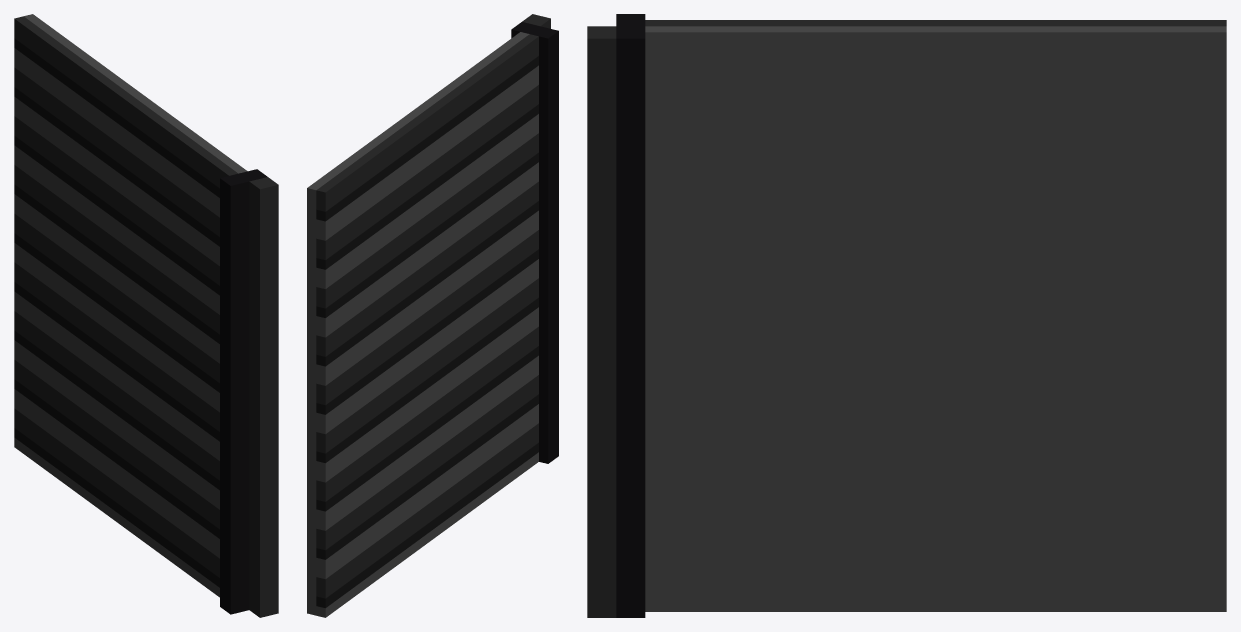
File: mesh_hanger_ship_door_middle_right.obj
3 views of the same model, side by side, from view 1: azimuth 30°, elevation 25°; view 2: azimuth 150°, elevation 25°; view 3: azimuth 270°, elevation 25° (orthographic). The views are drawn at different scales.
Size of the model in its own units: 0.4 by 4.4 by 4.4.
1 material, 1 textured.
